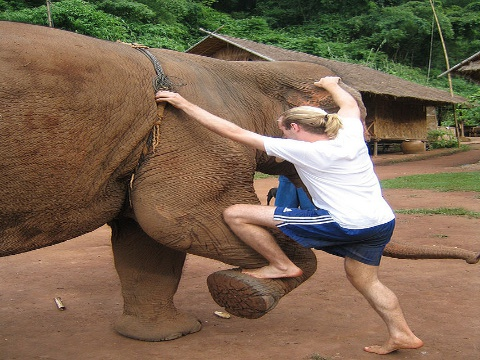hand: (156, 90, 183, 106), (314, 75, 341, 90)
